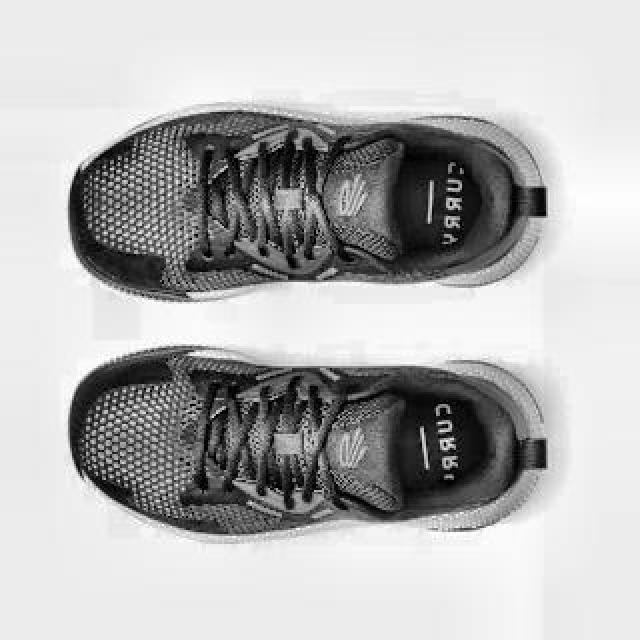shoe: (61, 338, 553, 552), (60, 100, 547, 306), (67, 102, 549, 304), (69, 344, 549, 542)
